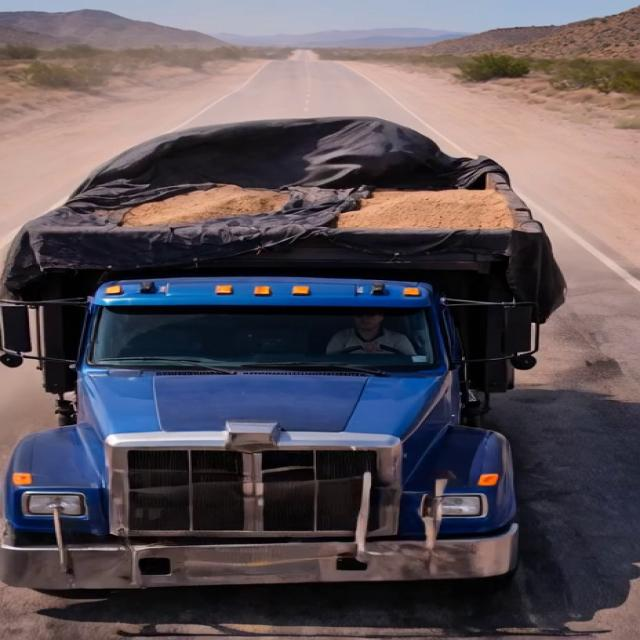Box: (20, 112, 555, 266)
Truck: (16, 83, 572, 606)
